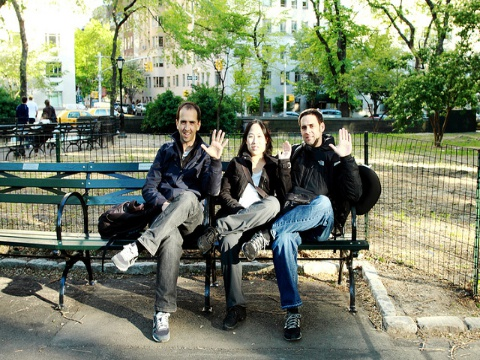hand: (200, 127, 229, 159), (327, 126, 352, 157), (277, 139, 293, 159)
